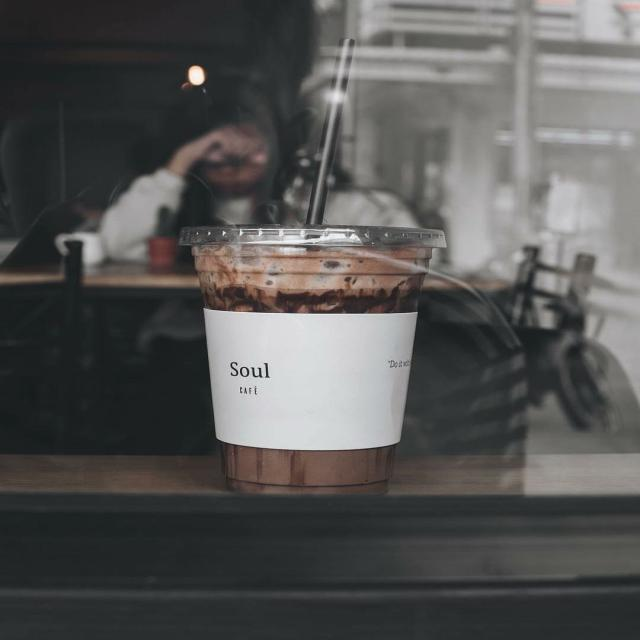plastic cup: (179, 223, 447, 497)
